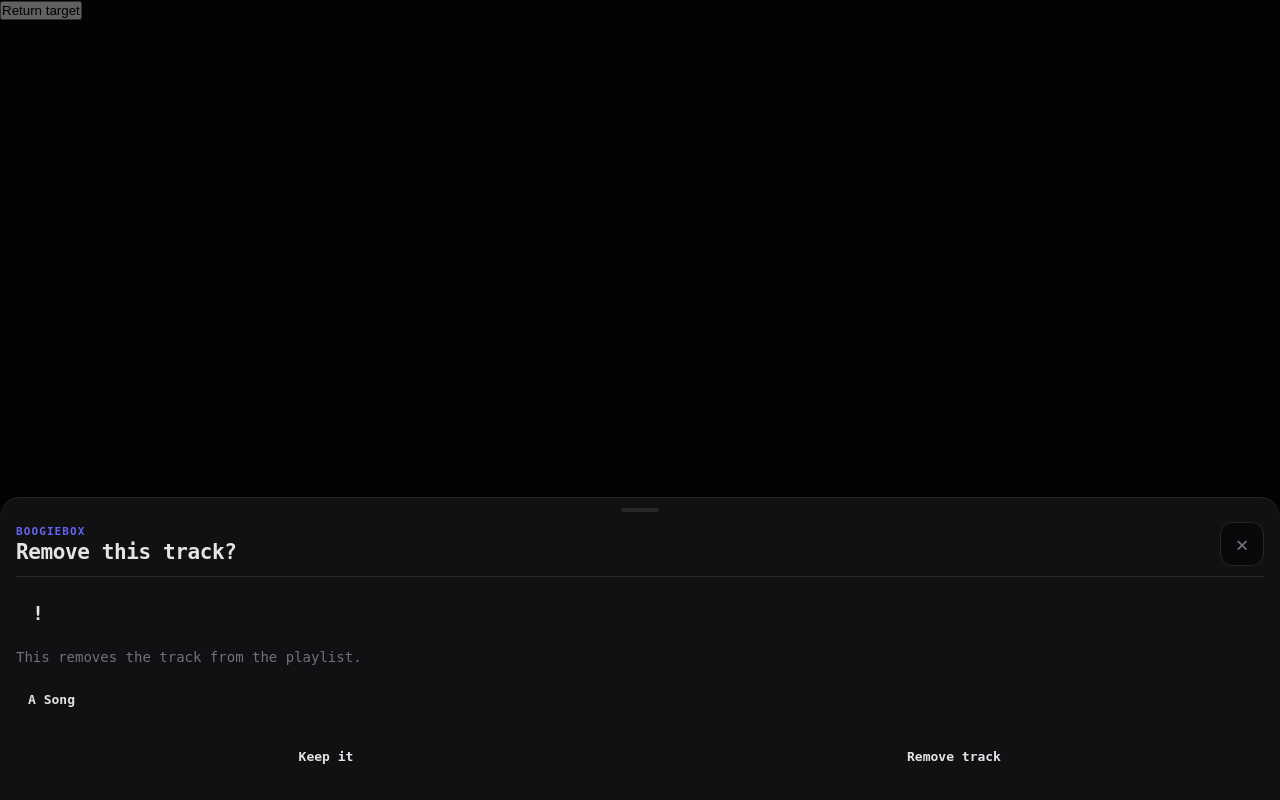
MobileConfirmationSheet › keeps the confirmation open and reports rejected actions
Click the button "Remove track" at (954, 756), box [644,730,1264,782]
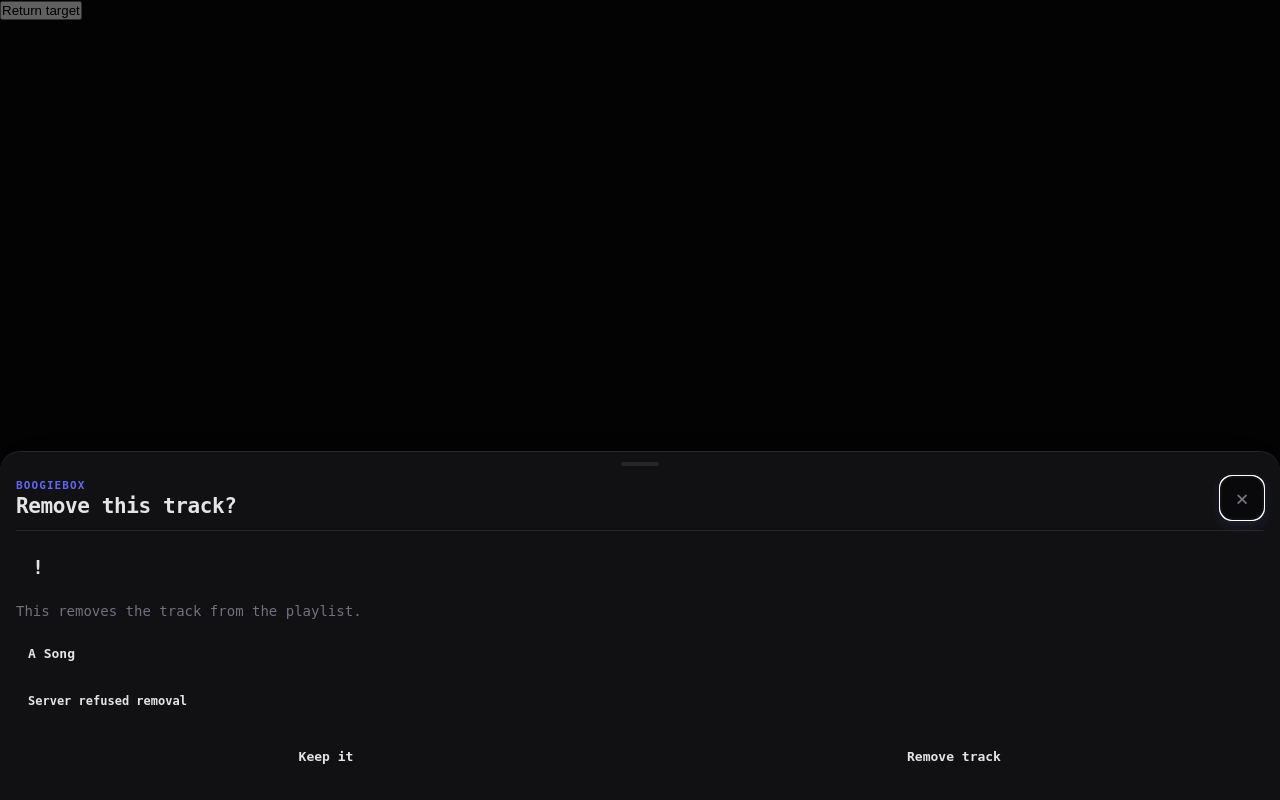
Expected: the dialog is shown, [0,451,1279,799]
Result: the text "Server refused removal" is shown at [28,694,187,708]
Click the button "Keep it" at (326, 756), box [16,730,636,782]
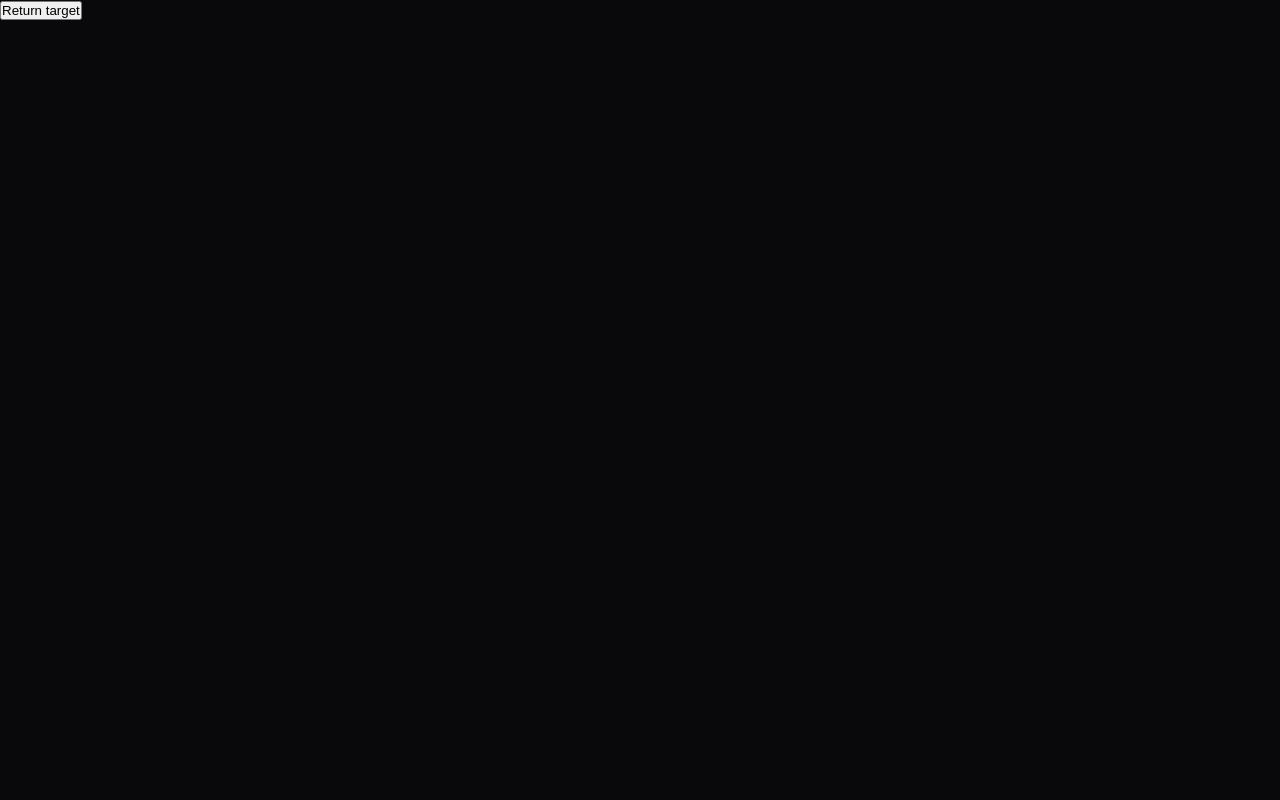
Result: the dialog is gone
